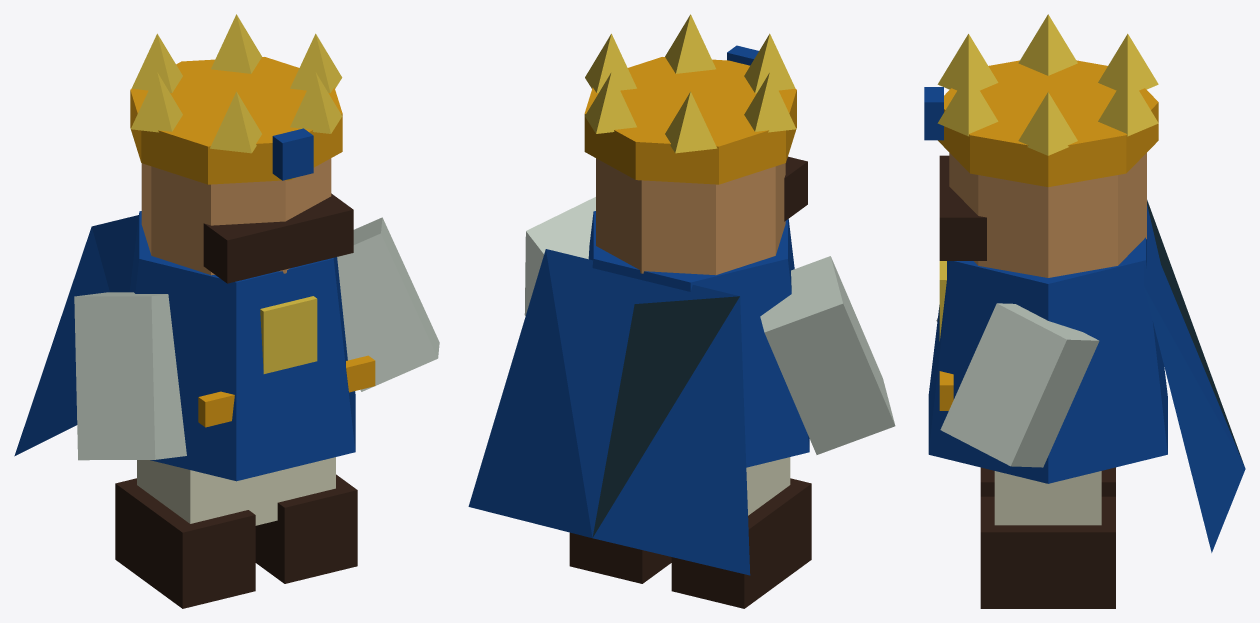
File: king.fbx
3 renders of one model, left to right at view 1: azimuth 30°, elevation 25°; view 2: azimuth 150°, elevation 25°; view 3: azimuth 270°, elevation 25°, orthographic.
Parts seen in each view (by area): view 1: king; view 2: king; view 3: king.
Boxes of the visible parts, x1=… form: king: x1=14, y1=14, x2=439, y2=608; king: x1=468, y1=14, x2=895, y2=608; king: x1=924, y1=14, x2=1245, y2=608.
Size of the model in its own units: 0.7538 by 1 by 0.5695.
